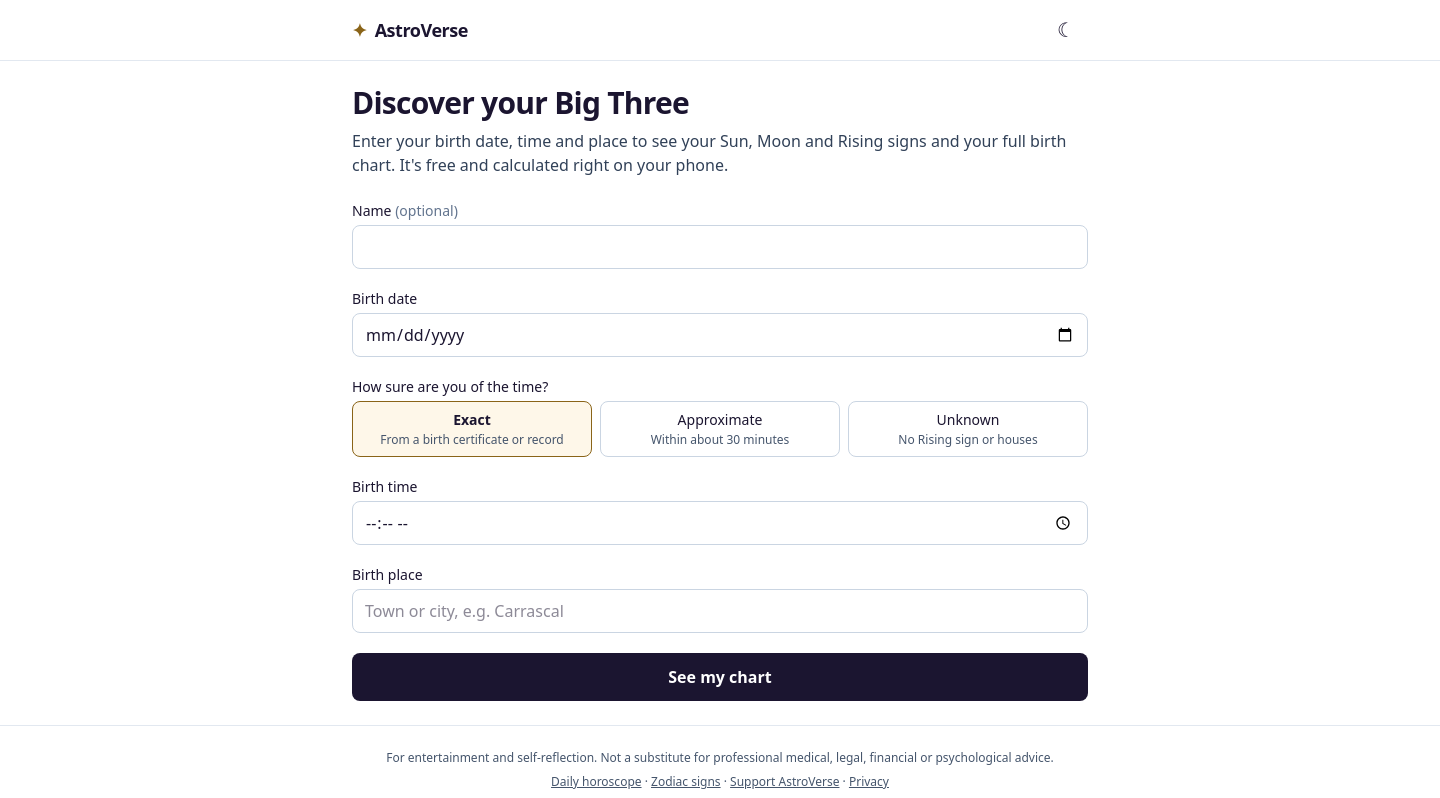
Birth form → chart (PRD F1 acceptance) › shows validation errors and does not navigate
The image size is (1440, 798).
Click the button "See my chart": (720, 677) [352,653,1088,701]
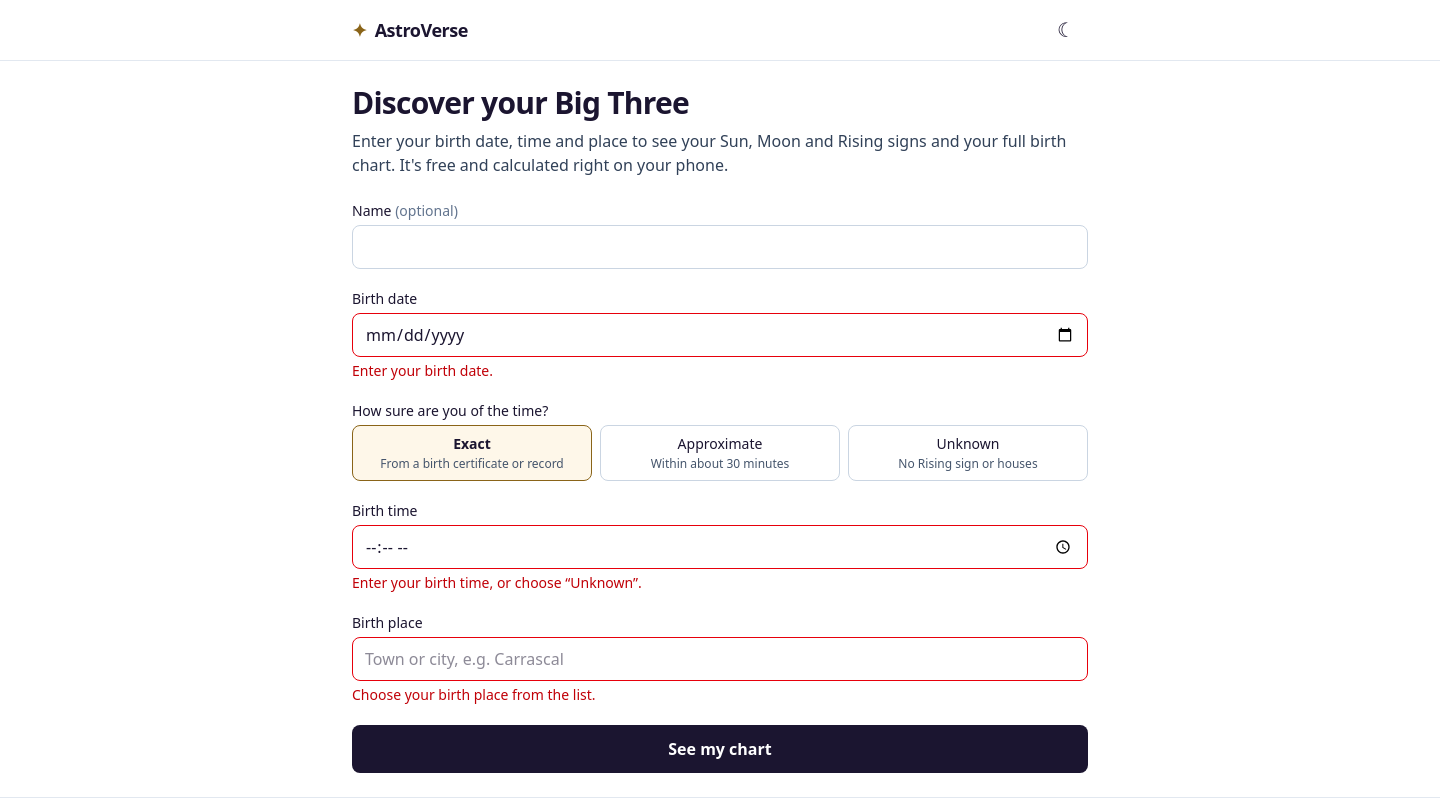
expect the text "Enter your birth date." is shown: met, box [352,361,493,380]
expect the text "Enter your birth time, or choose “Unknown”." is shown: met, box [352,573,642,592]
expect the text "Choose your birth place from the list." is shown: met, box [352,685,596,704]
